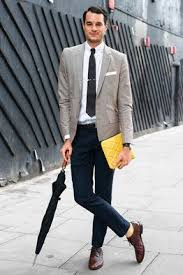F_M_suit jacket: (53, 40, 139, 146)
F_belt: (72, 119, 101, 131)
F_dress pants: (69, 127, 134, 248)
